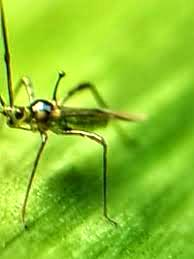Helopeltis-insect: (0, 91, 142, 140)
